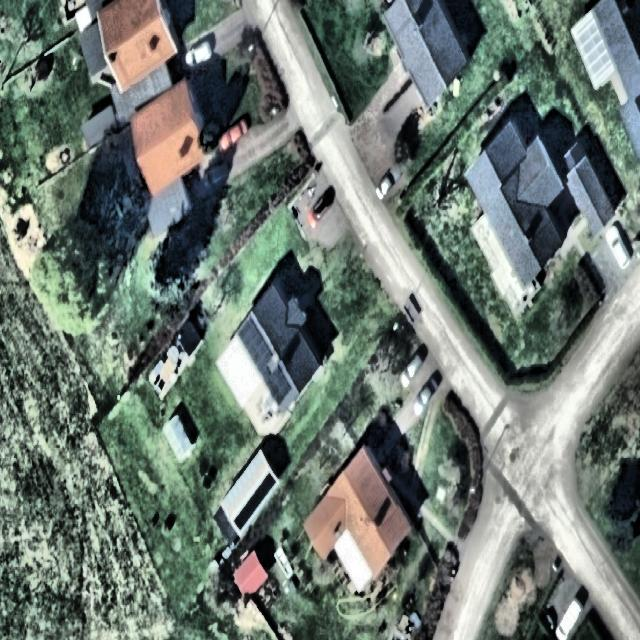roof_pv: (234, 471, 278, 534), (237, 318, 272, 378), (264, 361, 292, 411)
